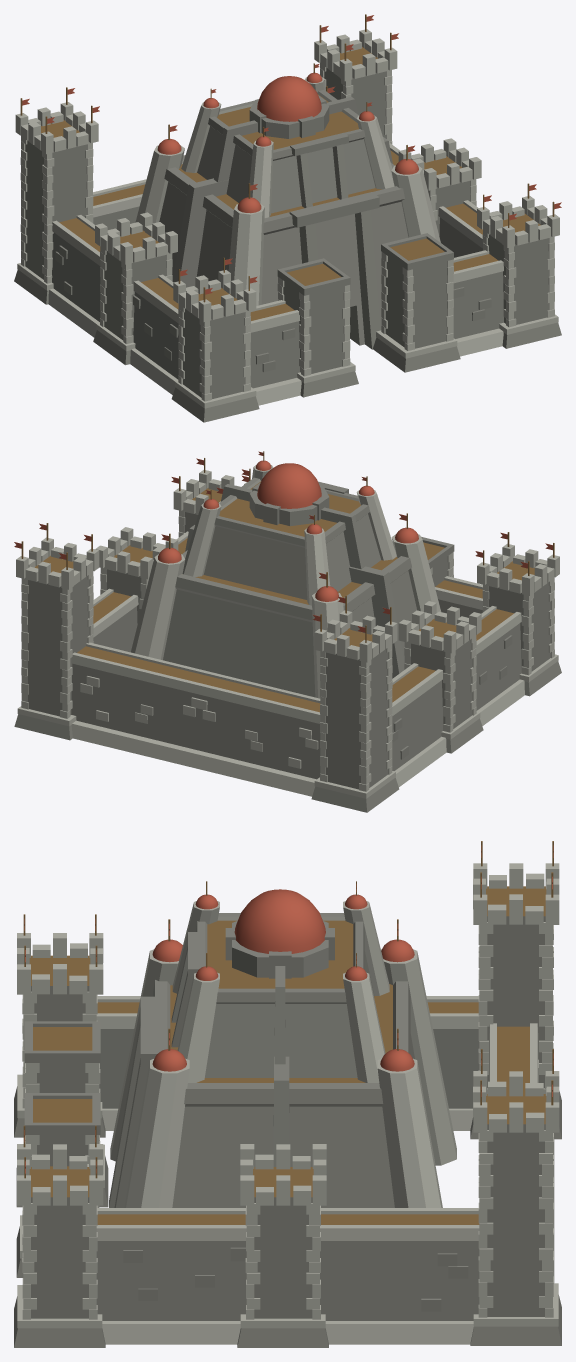
File: Wonder_SecondAge_Level3.glb
The picture shows the model from 3 angles, top to bottom: view 1: azimuth 30°, elevation 25°; view 2: azimuth 150°, elevation 25°; view 3: azimuth 270°, elevation 25°; orthographic projection. The views are drawn at different scales.
Visible parts, largest first — view 1: Wonder_SecondAge_Level3; view 2: Wonder_SecondAge_Level3; view 3: Wonder_SecondAge_Level3.
Part boxes in pixels (x1,y1,x2,y2): Wonder_SecondAge_Level3: [14, 14, 561, 422]; Wonder_SecondAge_Level3: [14, 451, 561, 812]; Wonder_SecondAge_Level3: [14, 841, 561, 1347].
Size of the model in its own units: 2.13 by 1.35 by 1.96.
